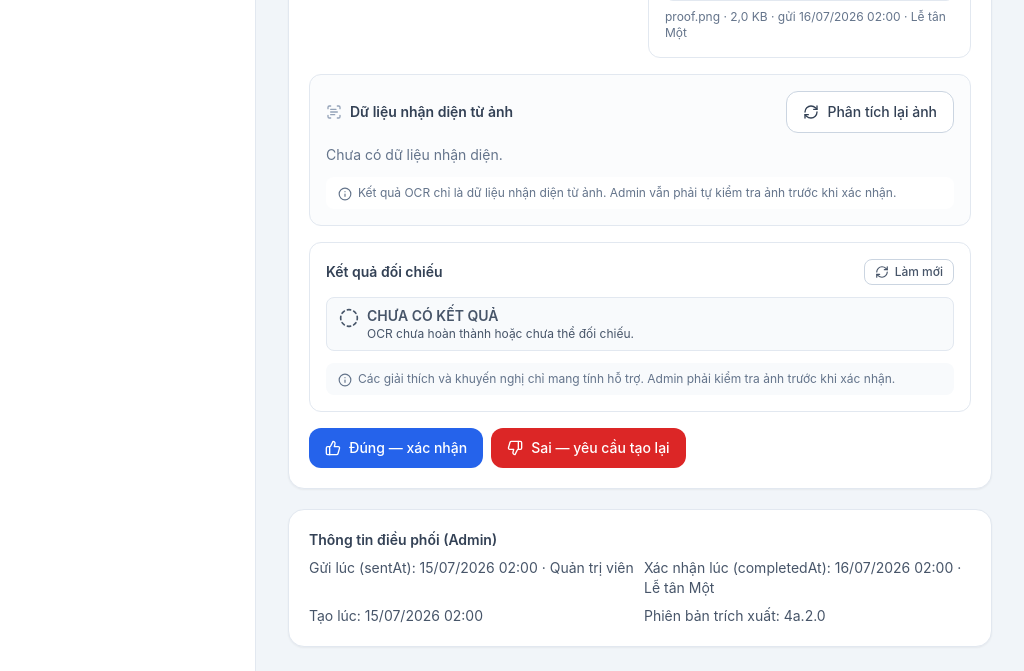
Test: BookingDetailPage — admin review › rejects a pending proof with a reason code
This screenshot has width=1024, height=671.
(page scrolled)
Step 1. Click the button "Sai — yêu cầu tạo lại" → point(588, 448), box x1=491 y1=428 x2=686 y2=468
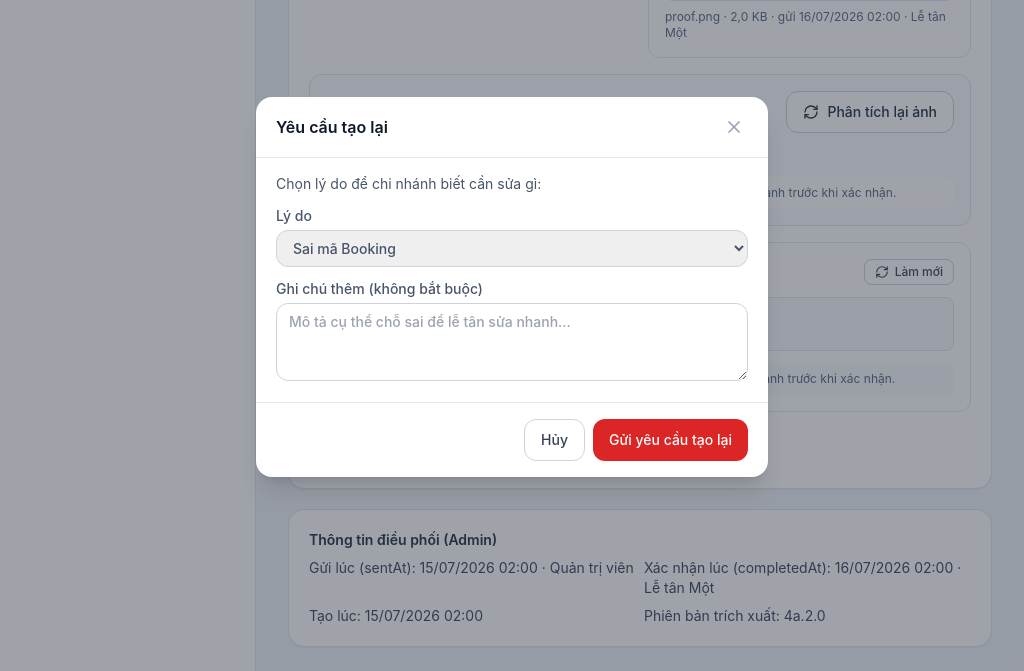
Step 2. Click the button "Gửi yêu cầu tạo lại" → point(670, 440), box x1=593 y1=419 x2=748 y2=461
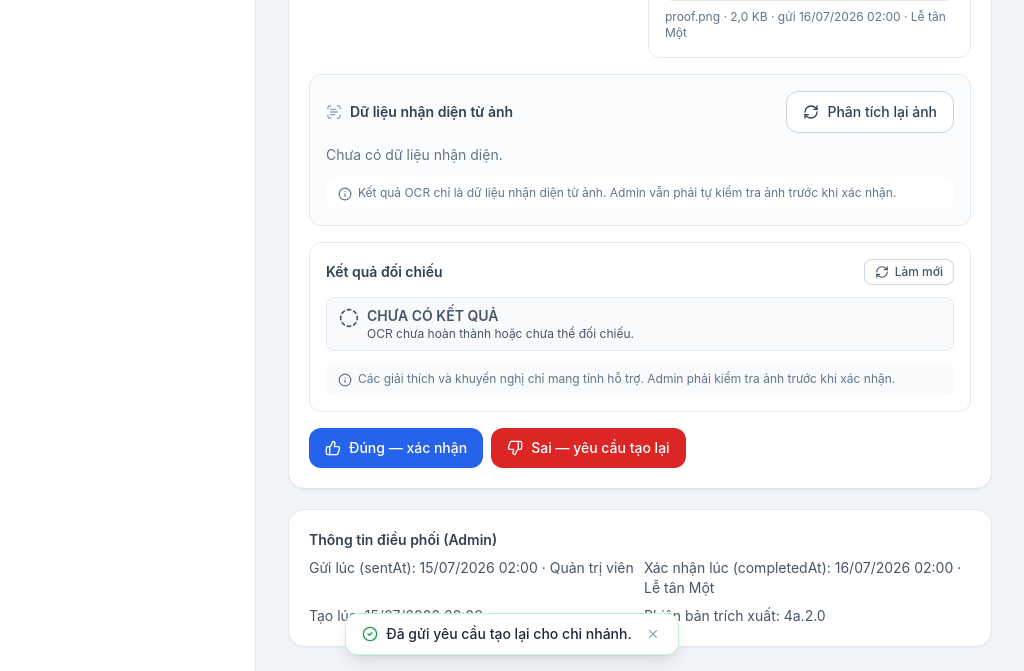
Result: the text "Đã gửi yêu cầu tạo lại cho chi nhánh." is shown at x1=386 y1=624 x2=632 y2=644
